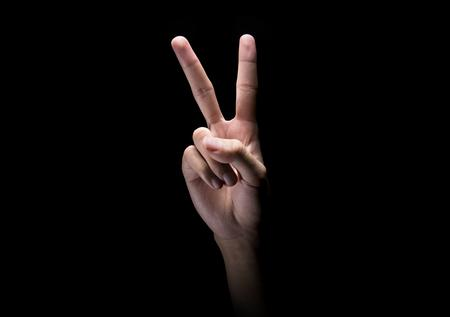peace_sign: (161, 32, 294, 237)
